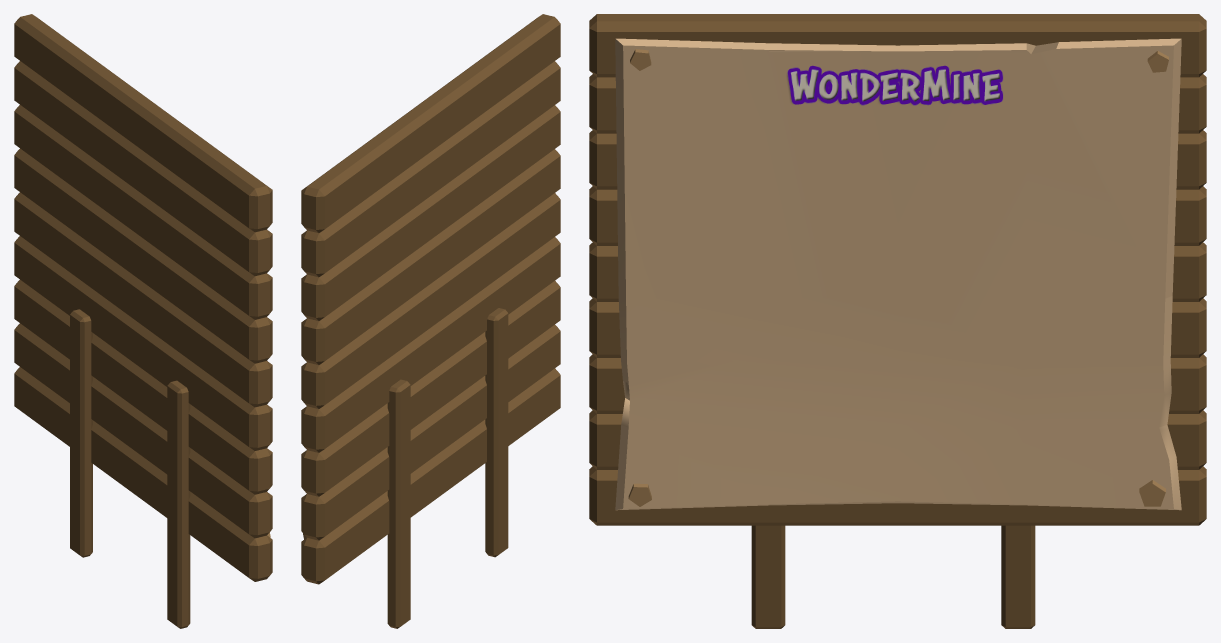
The model's file is wm_leaderboard.glb.
The picture shows the model from 3 angles, left to right: view 1: azimuth 30°, elevation 25°; view 2: azimuth 150°, elevation 25°; view 3: azimuth 270°, elevation 25°; orthographic projection. The views are drawn at different scales.
Parts seen in each view (by area): view 1: polySurface2, polySurface5, polySurface4, polySurface1, polySurface3; view 2: polySurface2, polySurface5, polySurface4, polySurface1, polySurface3; view 3: polySurface2, polySurface5, polySurface1, polySurface3, polySurface4.
Boxes of the visible parts, bbox=[...] form: polySurface2: bbox=[14, 192, 272, 628]; polySurface5: bbox=[14, 14, 272, 232]; polySurface4: bbox=[14, 61, 272, 276]; polySurface1: bbox=[14, 148, 272, 363]; polySurface3: bbox=[14, 105, 272, 319]; polySurface2: bbox=[301, 193, 560, 628]; polySurface5: bbox=[301, 14, 560, 233]; polySurface4: bbox=[301, 61, 560, 277]; polySurface1: bbox=[301, 149, 560, 364]; polySurface3: bbox=[301, 105, 560, 320]; polySurface2: bbox=[589, 38, 1206, 628]; polySurface5: bbox=[589, 14, 1206, 77]; polySurface1: bbox=[589, 186, 1206, 245]; polySurface3: bbox=[589, 130, 1206, 189]; polySurface4: bbox=[589, 74, 1206, 133].
Size of what is drawn, in the model's own units: 1.29 by 13.26 by 12.
1 material, 1 textured.
